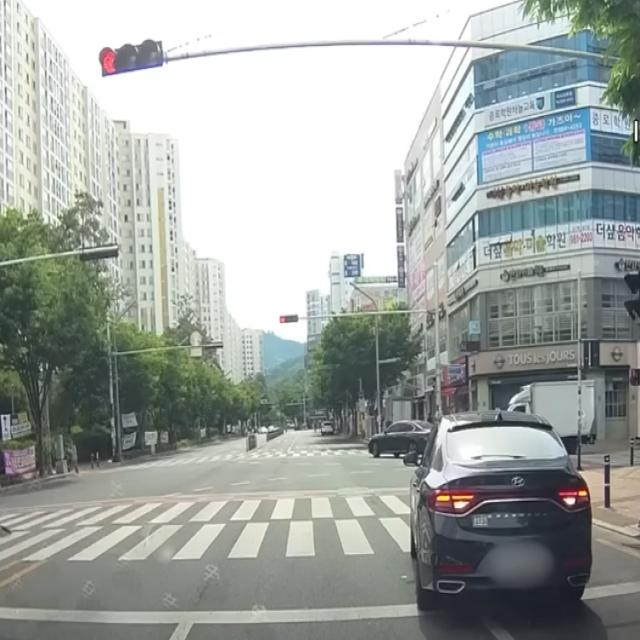Red Light: (99, 44, 118, 74)
